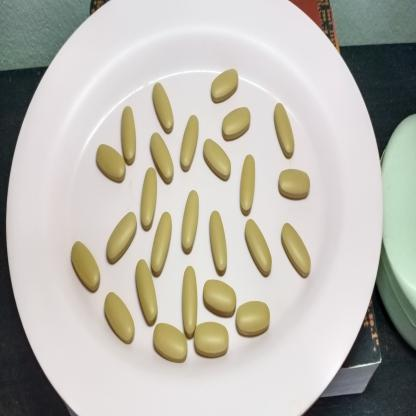VitaminB: (280, 219, 312, 282), (103, 290, 136, 348), (243, 219, 274, 279), (105, 209, 138, 265), (200, 274, 237, 322), (134, 258, 160, 326), (69, 241, 101, 295), (150, 212, 175, 279), (150, 322, 189, 364), (202, 135, 233, 187), (192, 319, 230, 360), (207, 208, 229, 278), (149, 131, 175, 190), (235, 299, 272, 339), (272, 101, 296, 160), (178, 111, 200, 175), (138, 164, 158, 233), (95, 142, 126, 186), (238, 152, 258, 219), (151, 80, 175, 135), (208, 65, 240, 106), (277, 166, 312, 203), (180, 188, 199, 255), (181, 265, 198, 338), (220, 104, 252, 142), (119, 103, 137, 166)
